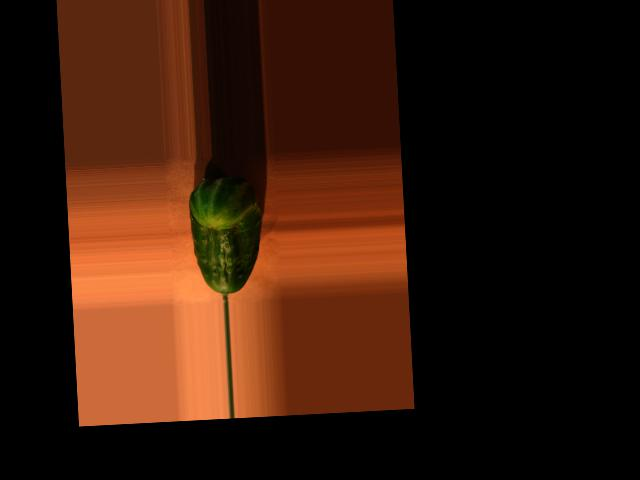cucumber: (186, 175, 264, 296)
